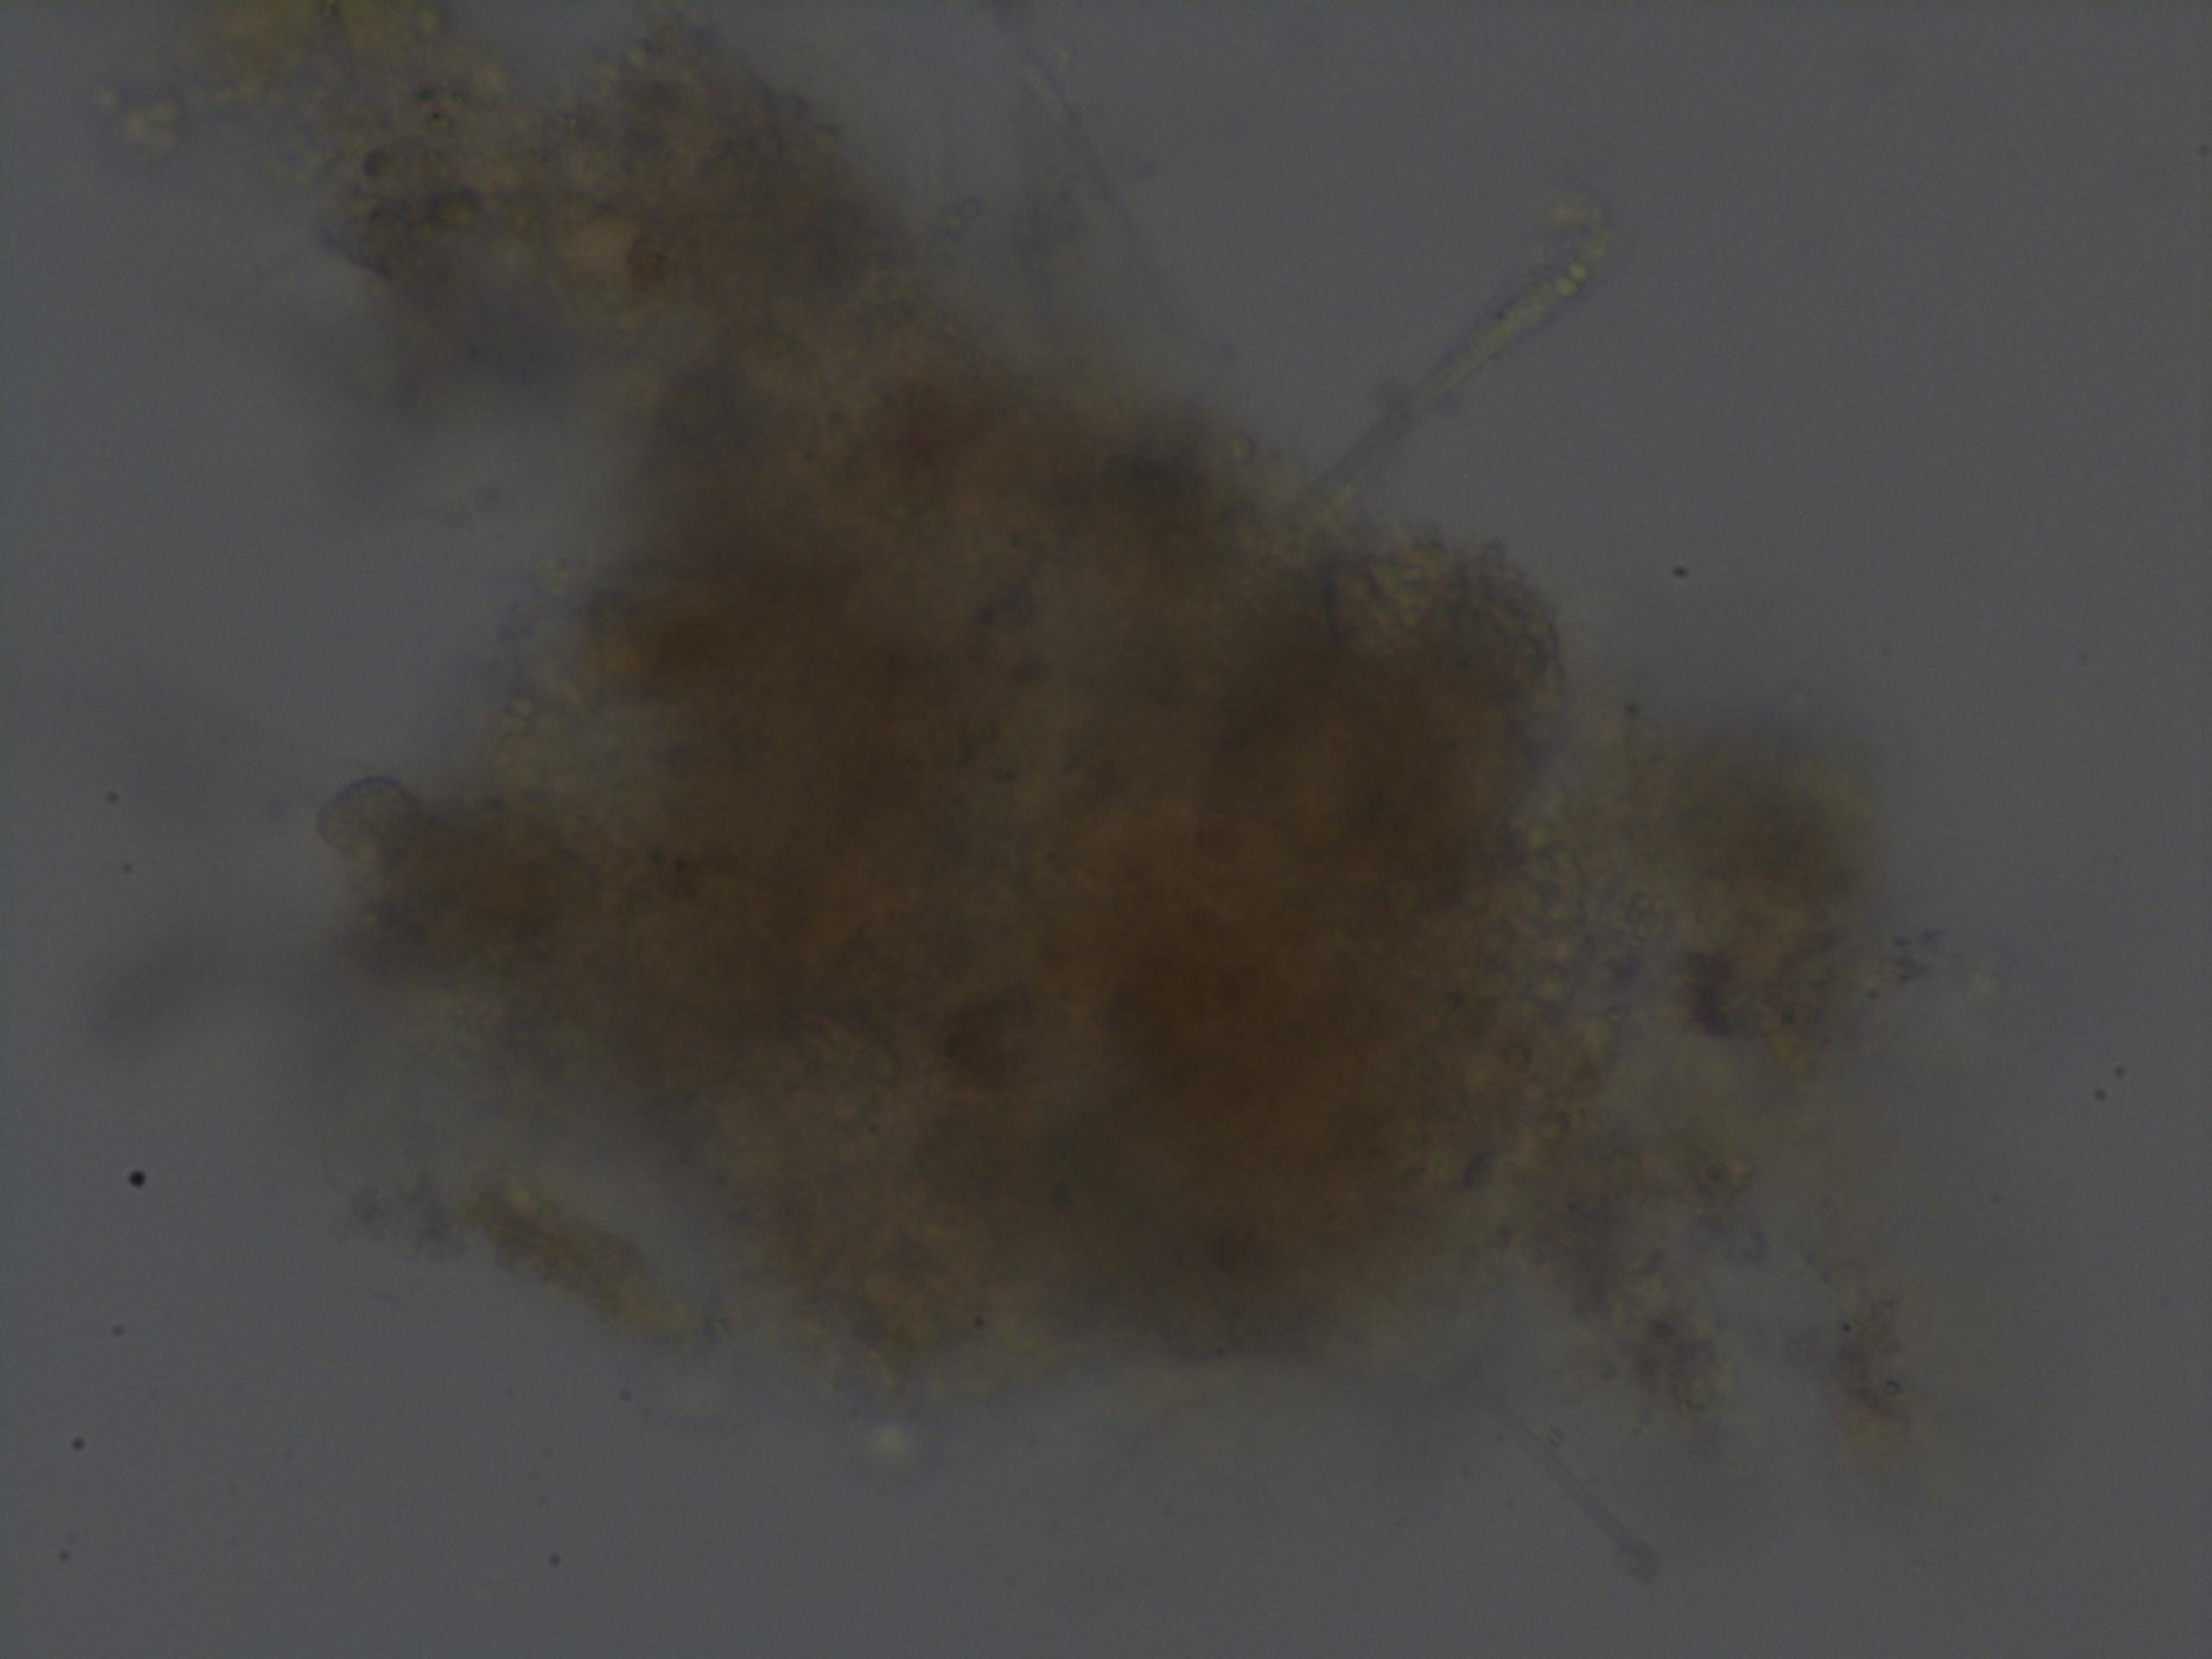filament: (1325, 1321, 1691, 1608), (1298, 195, 1613, 523)
spherical_floc: (310, 350, 1608, 1373)
